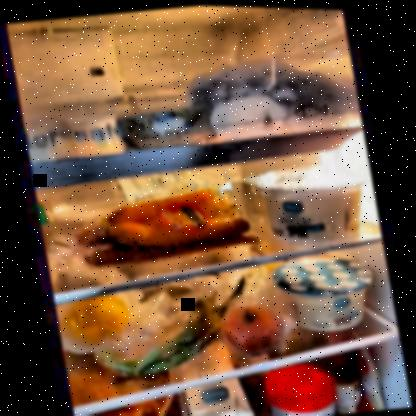carrot: (70, 181, 256, 262)
green_chillies: (92, 292, 232, 380)
lemon: (52, 292, 133, 349)
milk: (178, 381, 255, 415)
tomato: (218, 300, 285, 346)
yoghurt: (255, 159, 365, 246), (268, 251, 374, 333)
